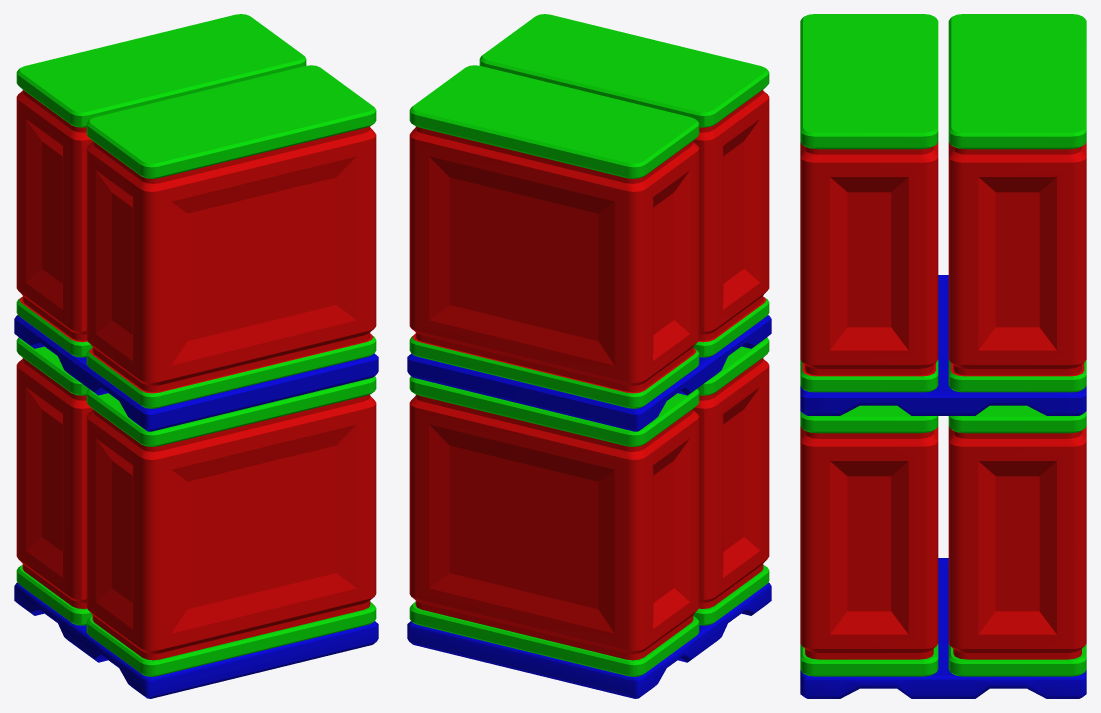
Rendered from SM_ValveRoom_Boxes_Staked.fbx.
3 views of the same model, side by side, from view 1: azimuth 30°, elevation 25°; view 2: azimuth 150°, elevation 25°; view 3: azimuth 270°, elevation 25° (orthographic). The views are drawn at different scales.
Visible parts, largest first — view 1: SM_ValveRoom_Boxes_Staked; view 2: SM_ValveRoom_Boxes_Staked; view 3: SM_ValveRoom_Boxes_Staked.
Boxes of the visible parts, x1,y1,x2,y2 form: SM_ValveRoom_Boxes_Staked: (14, 14, 378, 698); SM_ValveRoom_Boxes_Staked: (407, 14, 771, 698); SM_ValveRoom_Boxes_Staked: (800, 14, 1086, 698).
Bounding box in the file's own units: 200 × 437 × 200.
